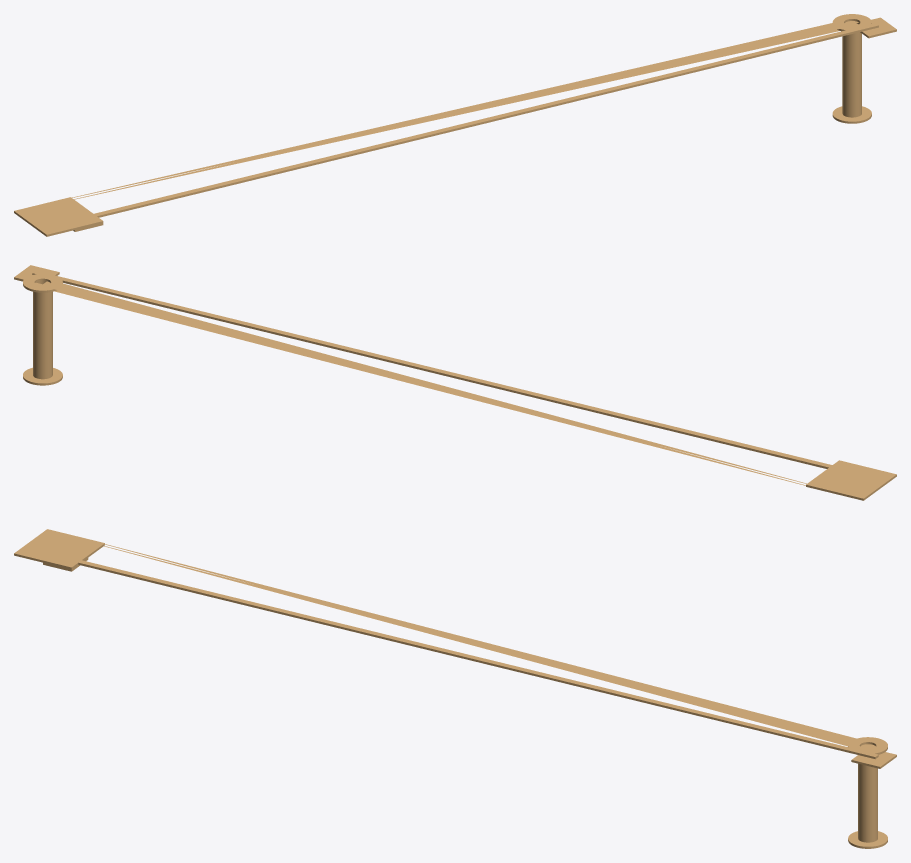
Rendered from board.glb.
3 views of the same model, one above another, from view 1: azimuth 30°, elevation 25°; view 2: azimuth 150°, elevation 25°; view 3: azimuth 330°, elevation 25° (orthographic).
Parts seen in each view (by area): view 1: Unified_Net_1_Island_0, Unified_Net_2_Island_0, Bare_Via_Tube_2; view 2: Unified_Net_1_Island_0, Unified_Net_2_Island_0, Bare_Via_Tube_2, Unified_Net_1_Island_1; view 3: Unified_Net_1_Island_0, Unified_Net_2_Island_0, Bare_Via_Tube_2.
Part boxes in pixels (x1,y1,x2,y2): Unified_Net_1_Island_0: [14, 19, 859, 236]; Unified_Net_2_Island_0: [92, 23, 878, 217]; Bare_Via_Tube_2: [842, 19, 861, 117]; Unified_Net_1_Island_0: [34, 278, 896, 500]; Unified_Net_2_Island_0: [32, 270, 848, 471]; Bare_Via_Tube_2: [33, 279, 52, 379]; Unified_Net_1_Island_1: [23, 273, 62, 292]; Unified_Net_1_Island_0: [14, 529, 876, 747]; Unified_Net_2_Island_0: [63, 556, 878, 759]; Bare_Via_Tube_2: [858, 742, 877, 842].
Bounding box in the file's own units: 0.015 × 0.00157 × 0.001.
